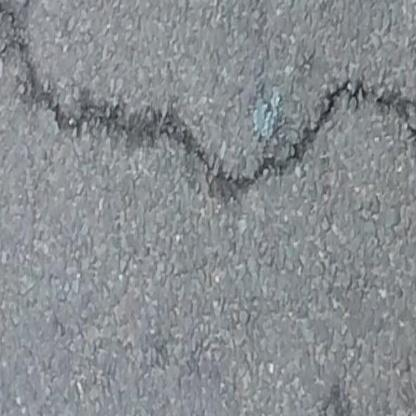Cracks: (0, 0, 416, 192)
